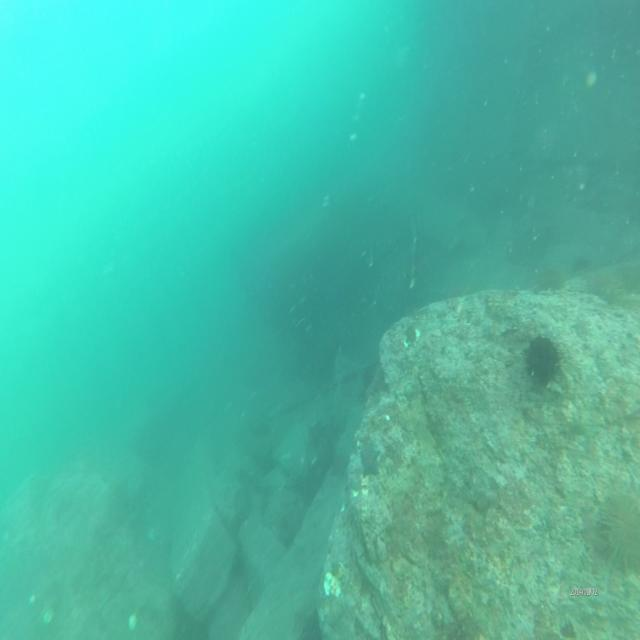echinus: (603, 492, 640, 571), (526, 330, 566, 391)
